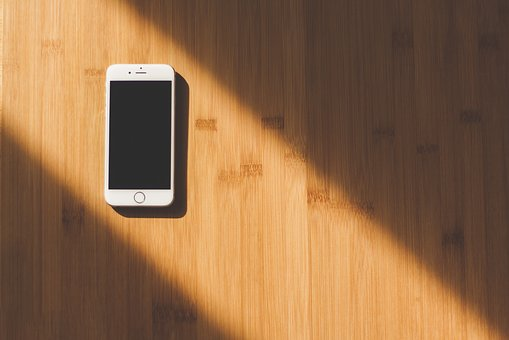mobile: (97, 63, 192, 227)
